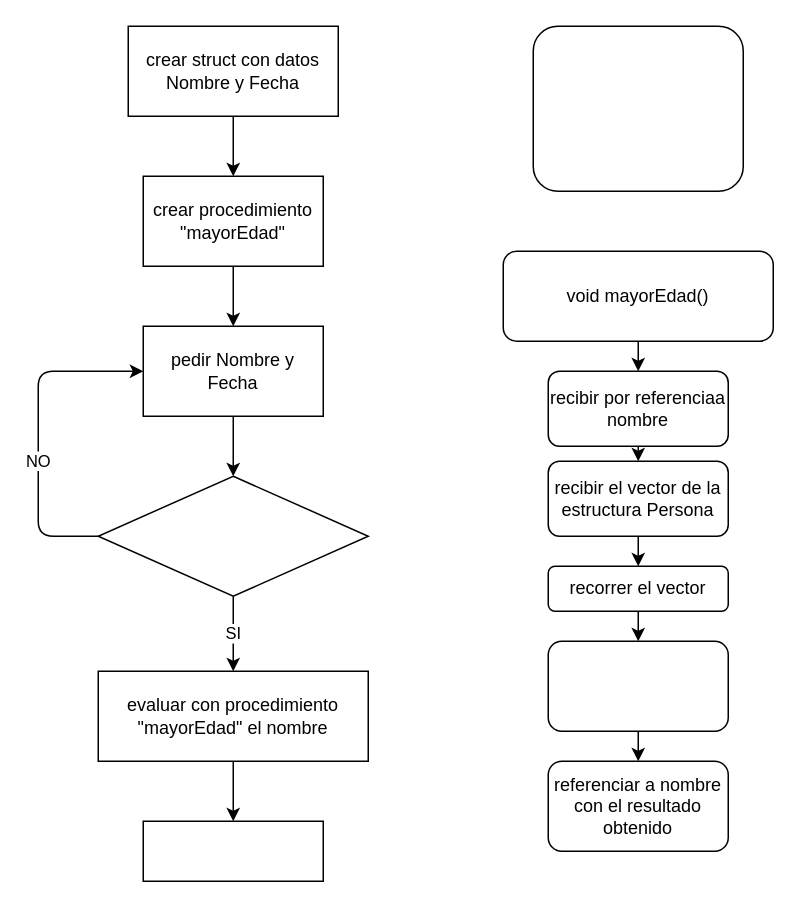
The diagram is 800 pixels wide and 908 high, and some of its shapes have lost their labels. Each missing label, with the centre of its shape:
almacenar el nombre de quien tenga la fecha mas chica: point (637, 685)
Imprimir el nombre: point (232, 850)
struct Persona { string Nombre; int Fecha; };: point (637, 108)
while Nombre != "FIN": point (232, 535)
